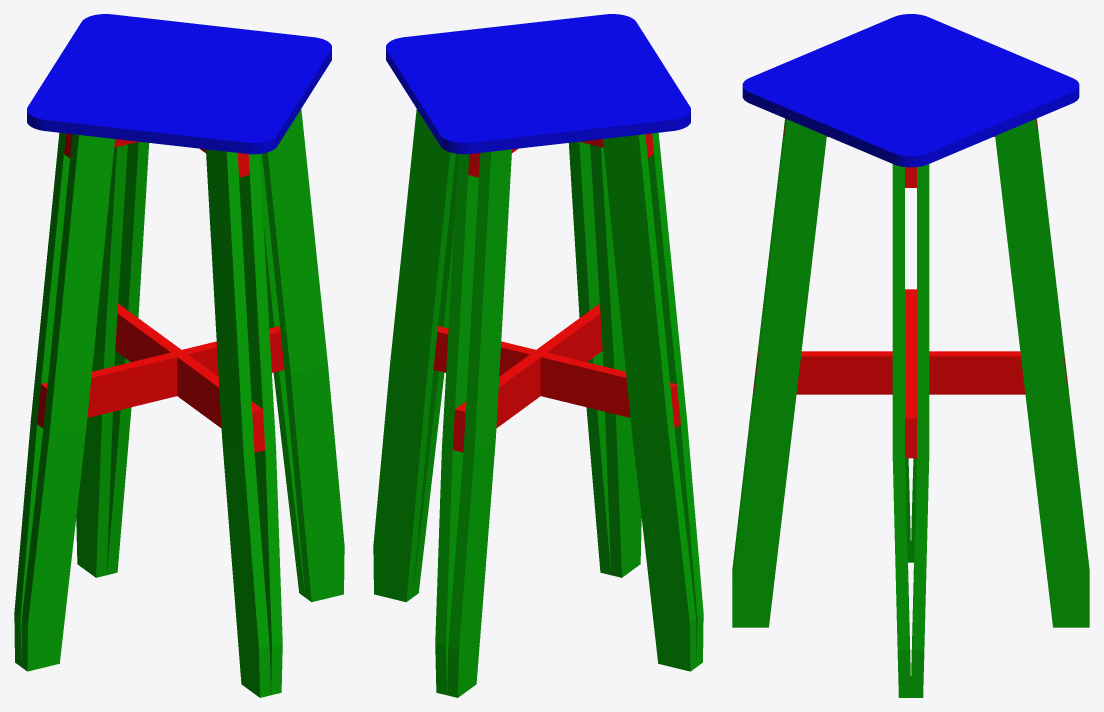
File: result.glb
3 renders of one model, left to right at view 1: azimuth 30°, elevation 25°; view 2: azimuth 150°, elevation 25°; view 3: azimuth 270°, elevation 25°, orthographic. The views are drawn at different scales.
Parts seen in each view (by area): view 1: 5ca03393-7fc7-4ae7-97d3-4ef9df1f30ed__undefined, f5f11b2b-ccfd-4fcc-a90b-90e6082e235a__undefined, b75c9de3-c20f-4884-a884-69375f18803c__undefined, 0d905b18-96ce-4a50-a3d8-5c37e2cd523e__Box_4, 2541694a-372f-4c5f-be90-db81f8519cb6__undefined, 6a9b86ee-025b-46de-a529-e8cf23d624af__Box_5, fb625caa-c4f0-4e46-92c9-3e773924668d__Box_6, b4c5e2d2-9d10-4b48-896f-2a8ecb72eac5__undefined, b5946923-ae66-4218-b5cb-1b706f178b9f__undefined, fd73ba4d-b2e5-4309-8991-b16aa369d302__undefined, fd3ac9e4-93c6-4737-9d8b-8a47dd7f9045__undefined, 040befa2-c224-44af-8364-c1d9e4f5eb1a__undefined (+1 smaller); view 2: fd73ba4d-b2e5-4309-8991-b16aa369d302__undefined, 0e158bc0-24bf-4b8a-8d7d-118edd27599b__undefined, b4c5e2d2-9d10-4b48-896f-2a8ecb72eac5__undefined, fb625caa-c4f0-4e46-92c9-3e773924668d__Box_6, 6a9b86ee-025b-46de-a529-e8cf23d624af__Box_5, 0d905b18-96ce-4a50-a3d8-5c37e2cd523e__Box_4, b5946923-ae66-4218-b5cb-1b706f178b9f__undefined, b75c9de3-c20f-4884-a884-69375f18803c__undefined, 2541694a-372f-4c5f-be90-db81f8519cb6__undefined, 5ca03393-7fc7-4ae7-97d3-4ef9df1f30ed__undefined, fd3ac9e4-93c6-4737-9d8b-8a47dd7f9045__undefined, 040befa2-c224-44af-8364-c1d9e4f5eb1a__undefined (+1 smaller); view 3: b5946923-ae66-4218-b5cb-1b706f178b9f__undefined, 2541694a-372f-4c5f-be90-db81f8519cb6__undefined, fb625caa-c4f0-4e46-92c9-3e773924668d__Box_6, 6a9b86ee-025b-46de-a529-e8cf23d624af__Box_5, 0d905b18-96ce-4a50-a3d8-5c37e2cd523e__Box_4, 040befa2-c224-44af-8364-c1d9e4f5eb1a__undefined, f5f11b2b-ccfd-4fcc-a90b-90e6082e235a__undefined, 0e158bc0-24bf-4b8a-8d7d-118edd27599b__undefined, fd3ac9e4-93c6-4737-9d8b-8a47dd7f9045__undefined, b4c5e2d2-9d10-4b48-896f-2a8ecb72eac5__undefined, b75c9de3-c20f-4884-a884-69375f18803c__undefined.
Part boxes in pixels (x1,y1,x2,y2): 5ca03393-7fc7-4ae7-97d3-4ef9df1f30ed__undefined: (21, 134, 114, 671); f5f11b2b-ccfd-4fcc-a90b-90e6082e235a__undefined: (262, 109, 344, 602); b75c9de3-c20f-4884-a884-69375f18803c__undefined: (206, 149, 270, 697); 0d905b18-96ce-4a50-a3d8-5c37e2cd523e__Box_4: (27, 82, 292, 154); 2541694a-372f-4c5f-be90-db81f8519cb6__undefined: (239, 154, 282, 695); 6a9b86ee-025b-46de-a529-e8cf23d624af__Box_5: (44, 47, 315, 121); fb625caa-c4f0-4e46-92c9-3e773924668d__Box_6: (66, 14, 331, 85); b4c5e2d2-9d10-4b48-896f-2a8ecb72eac5__undefined: (76, 144, 127, 577); b5946923-ae66-4218-b5cb-1b706f178b9f__undefined: (106, 141, 149, 574); fd73ba4d-b2e5-4309-8991-b16aa369d302__undefined: (14, 132, 69, 666); fd3ac9e4-93c6-4737-9d8b-8a47dd7f9045__undefined: (37, 326, 284, 428); 040befa2-c224-44af-8364-c1d9e4f5eb1a__undefined: (115, 303, 265, 452); fd73ba4d-b2e5-4309-8991-b16aa369d302__undefined: (603, 134, 696, 671); 0e158bc0-24bf-4b8a-8d7d-118edd27599b__undefined: (373, 109, 455, 602); b4c5e2d2-9d10-4b48-896f-2a8ecb72eac5__undefined: (447, 149, 511, 697); fb625caa-c4f0-4e46-92c9-3e773924668d__Box_6: (386, 30, 530, 154); 6a9b86ee-025b-46de-a529-e8cf23d624af__Box_5: (463, 21, 613, 147); 0d905b18-96ce-4a50-a3d8-5c37e2cd523e__Box_4: (547, 14, 690, 137); b5946923-ae66-4218-b5cb-1b706f178b9f__undefined: (435, 154, 478, 695); b75c9de3-c20f-4884-a884-69375f18803c__undefined: (590, 144, 641, 577); 2541694a-372f-4c5f-be90-db81f8519cb6__undefined: (568, 141, 611, 574); 5ca03393-7fc7-4ae7-97d3-4ef9df1f30ed__undefined: (648, 132, 703, 666); fd3ac9e4-93c6-4737-9d8b-8a47dd7f9045__undefined: (433, 326, 680, 428); 040befa2-c224-44af-8364-c1d9e4f5eb1a__undefined: (452, 303, 602, 452); b5946923-ae66-4218-b5cb-1b706f178b9f__undefined: (995, 119, 1089, 627); 2541694a-372f-4c5f-be90-db81f8519cb6__undefined: (732, 119, 826, 627); fb625caa-c4f0-4e46-92c9-3e773924668d__Box_6: (851, 60, 1079, 167); 6a9b86ee-025b-46de-a529-e8cf23d624af__Box_5: (792, 35, 1029, 145); 0d905b18-96ce-4a50-a3d8-5c37e2cd523e__Box_4: (742, 14, 969, 120); 040befa2-c224-44af-8364-c1d9e4f5eb1a__undefined: (754, 351, 1067, 394); f5f11b2b-ccfd-4fcc-a90b-90e6082e235a__undefined: (892, 164, 910, 697); 0e158bc0-24bf-4b8a-8d7d-118edd27599b__undefined: (911, 164, 929, 697); fd3ac9e4-93c6-4737-9d8b-8a47dd7f9045__undefined: (905, 289, 916, 458); b4c5e2d2-9d10-4b48-896f-2a8ecb72eac5__undefined: (1036, 118, 1089, 574); b75c9de3-c20f-4884-a884-69375f18803c__undefined: (732, 118, 785, 574).
Bounding box in the file's own units: 382 × 634 × 382.
